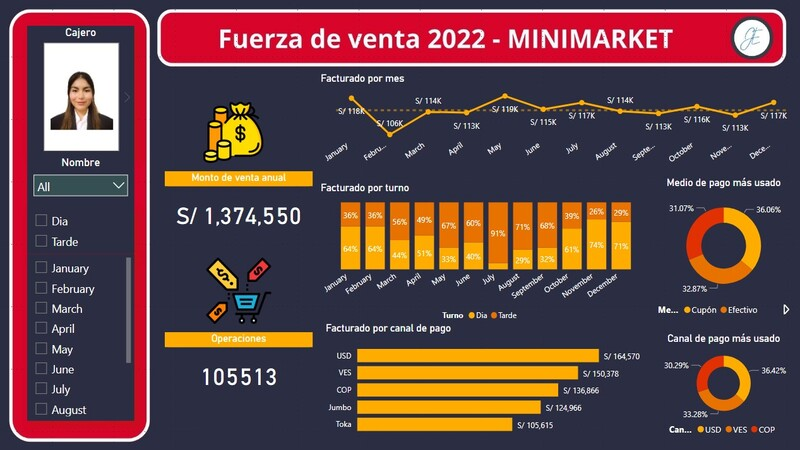

What the dashboard file says about the page in this screenshot:
{"tool":"powerbi","page":{"name":"Fuerza de ventas","canvas":[1280,720],"ordinal":0},"visuals":[{"type":"lineChart","title":"Facturado por mes","fields":{"Y":["Sum(Minimarket.Total)"],"Category":["Minimarket.Close-Factura.Variation.Date Hierarchy.Month"]},"box":[512,120,744,152],"z":0},{"type":"card","title":"Monto de venta anual","fields":{"Values":["Sum(Minimarket.Total)"]},"box":[272,272,232,112],"z":1000},{"type":"donutChart","title":"Canal de pago más usado","fields":{"Y":["Sum(Minimarket.Total)"],"Category":["Minimarket.Canal-Pago"]},"box":[1040,520,216,168],"z":2000},{"type":"slicer","fields":{"Values":["Minimarket.Turno"]},"box":[56,328,168,72],"z":3000},{"type":"hundredPercentStackedColumnChart","title":"Facturado por turno","fields":{"Category":["Minimarket.Close-Factura.Variation.Date Hierarchy.Month"],"Series":["Minimarket.Turno"],"Y":["Sum(Minimarket.Total)"]},"box":[512,288,512,224],"z":4000},{"type":"clusteredBarChart","title":"Facturado por canal de pago","fields":{"Category":["Minimarket.Canal-Pago"],"Y":["Sum(Minimarket.Total)"]},"box":[520,504,504,184],"z":5000},{"type":"slicer","fields":{"Values":["Minimarket.Open-Factura.Variation.Date Hierarchy.Month"]},"box":[56,400,168,256],"z":6000},{"type":"donutChart","title":"Medio de pago más usado","fields":{"Y":["Sum(Minimarket.Total)"],"Series":["Minimarket.Medio-Pago"]},"box":[1040,280,216,224],"z":7000},{"type":"image","box":[304,400,168,112],"z":8000},{"type":"image","box":[320,160,120,104],"z":9000},{"type":"slicer","title":"Cajero","fields":{"Values":["Empleados.Link"]},"box":[56,48,168,200],"z":10000},{"type":"slicer","title":"Nombre","fields":{"Values":["Empleados.Nomcajero"]},"box":[57.4,240.2,167.3,79.8],"z":11000},{"type":"card","title":"Operaciones","fields":{"Values":["Medidas.Operaciones"]},"box":[272,520,232,112],"z":12000}]}

Visuals, with their boxes in screenshot pixels (x1, y1, x2, y2), scaled from the page's 1280x720 canvas onto the 800x450 screenshot:
"Facturado por mes" lineChart: box=[320, 75, 785, 170]
"Monto de venta anual" card: box=[170, 170, 315, 240]
"Canal de pago más usado" donutChart: box=[650, 325, 785, 430]
slicer - Minimarket.Turno: box=[35, 205, 140, 250]
"Facturado por turno" hundredPercentStackedColumnChart: box=[320, 180, 640, 320]
"Facturado por canal de pago" clusteredBarChart: box=[325, 315, 640, 430]
slicer - Minimarket.Open-Factura.Variation.Date Hierarchy.Month: box=[35, 250, 140, 410]
"Medio de pago más usado" donutChart: box=[650, 175, 785, 315]
image: box=[190, 250, 295, 320]
image: box=[200, 100, 275, 165]
"Cajero" slicer: box=[35, 30, 140, 155]
"Nombre" slicer: box=[36, 150, 140, 200]
"Operaciones" card: box=[170, 325, 315, 395]
